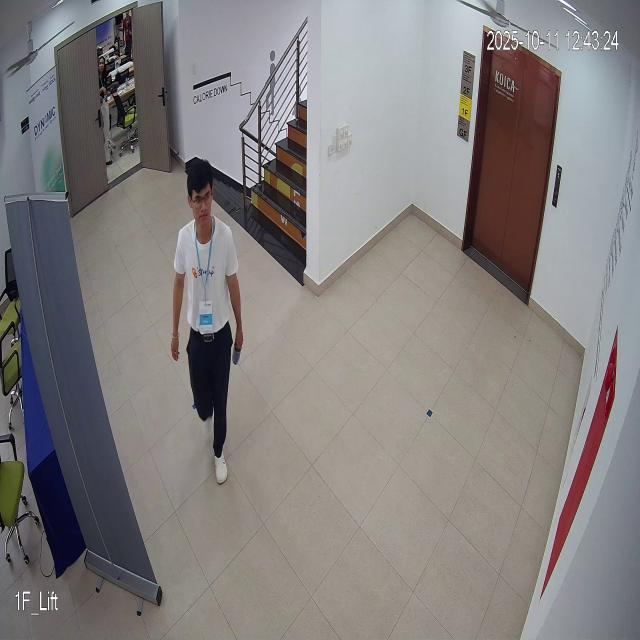face: (182, 154, 219, 238)
